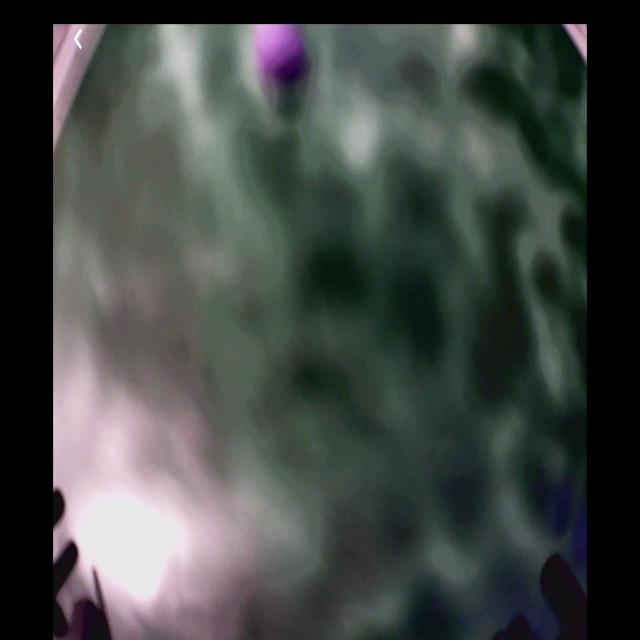ball: (258, 27, 308, 87)
